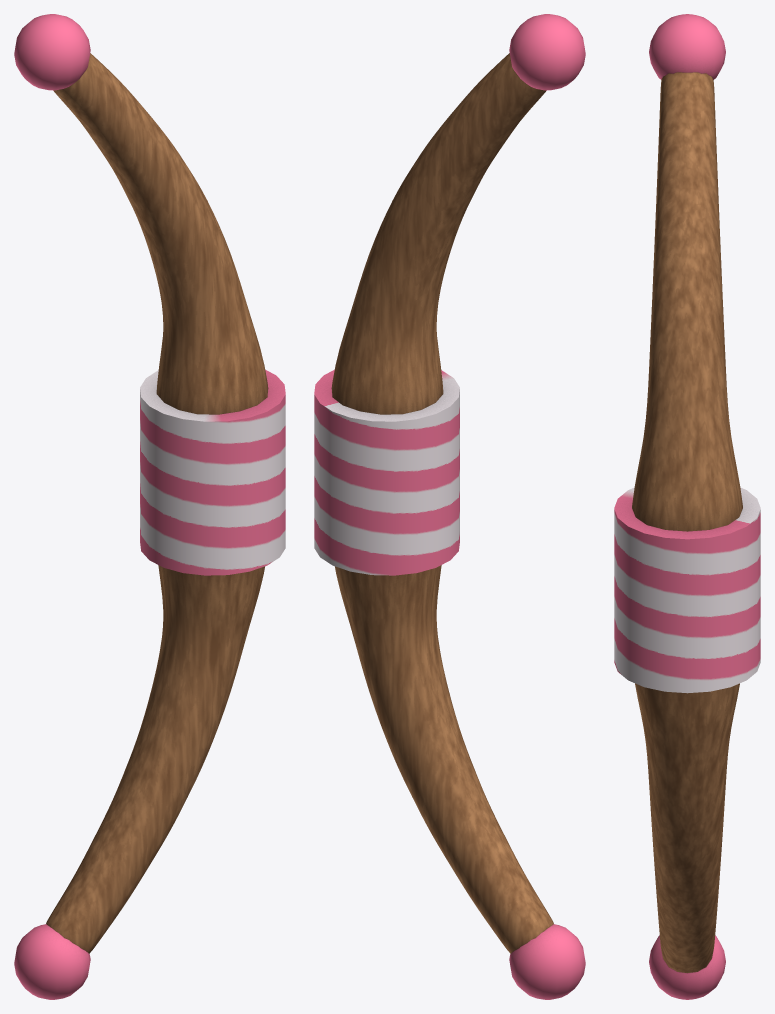
File: Wooden Bow.fbx
3 views of the same model, side by side, from view 1: azimuth 30°, elevation 25°; view 2: azimuth 150°, elevation 25°; view 3: azimuth 270°, elevation 25° (orthographic).
Parts seen in each view (by area): view 1: Wooden Bow; view 2: Wooden Bow; view 3: Wooden Bow.
Boxes of the visible parts, bbox=[...] form: Wooden Bow: bbox=[14, 14, 285, 999]; Wooden Bow: bbox=[314, 14, 585, 999]; Wooden Bow: bbox=[614, 14, 760, 999].
Bounding box in the file's own units: 3.85 × 14 × 1.9.
1 material, 1 textured.
